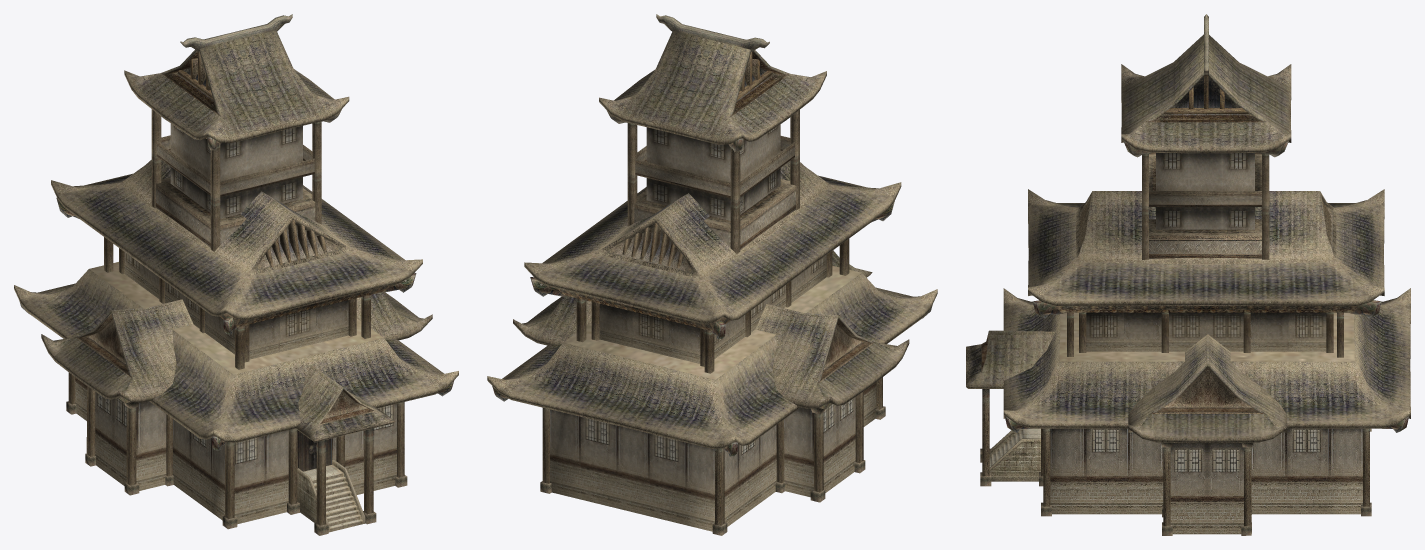
The model's file is desert-castle02.fbx.
The picture shows the model from 3 angles, left to right: view 1: azimuth 30°, elevation 25°; view 2: azimuth 150°, elevation 25°; view 3: azimuth 270°, elevation 25°; orthographic projection. The views are drawn at different scales.
Parts seen in each view (by area): view 1: desert-castle02-02, desert-castle02-01, desert-castle02-03; view 2: desert-castle02-02, desert-castle02-01, desert-castle02-03; view 3: desert-castle02-02, desert-castle02-01, desert-castle02-03.
Part boxes in pixels (x1,y1,x2,y2): desert-castle02-02: (14,160,458,524); desert-castle02-01: (66,14,407,535); desert-castle02-03: (41,292,432,442); desert-castle02-02: (487,161,937,531); desert-castle02-01: (540,14,885,535); desert-castle02-03: (513,250,909,409); desert-castle02-02: (1003,189,1410,534); desert-castle02-01: (980,14,1371,535); desert-castle02-03: (966,330,1287,442).
Bounding box in the file's own units: 25.69 × 32.74 × 30.68.
